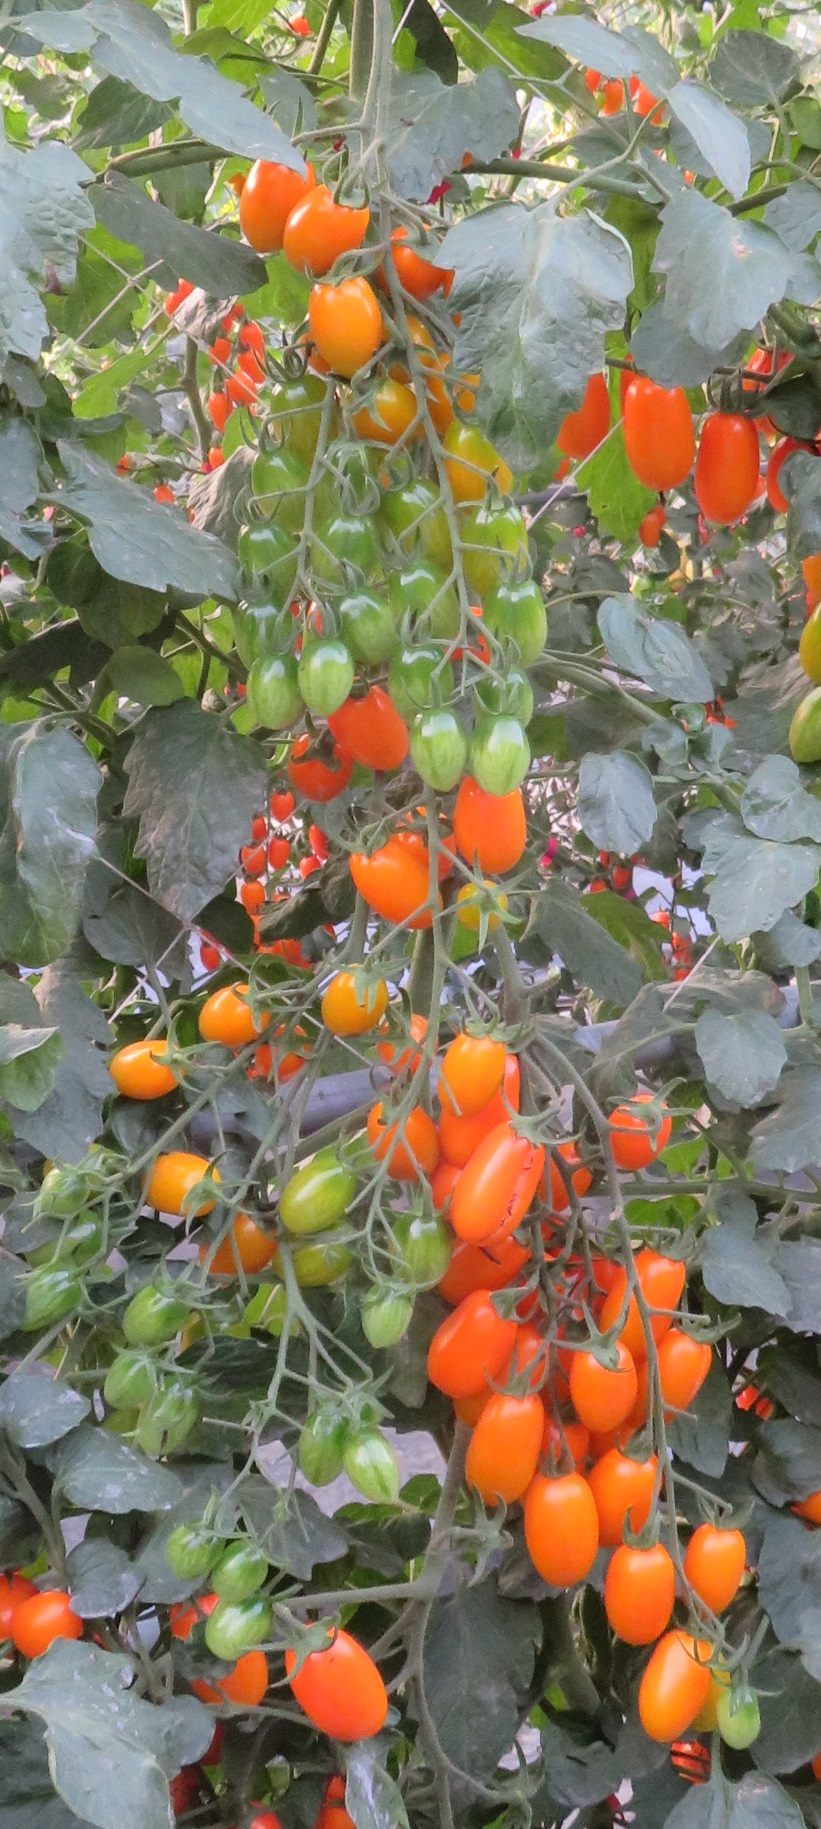green: (267, 1142, 363, 1240), (267, 376, 339, 453), (486, 591, 559, 667), (133, 1387, 210, 1457), (243, 650, 301, 742), (295, 640, 359, 720), (473, 712, 533, 796), (412, 706, 466, 797), (244, 450, 313, 521), (465, 510, 533, 580), (395, 1212, 454, 1292), (391, 650, 457, 719), (357, 1276, 412, 1359), (342, 1437, 406, 1506), (342, 597, 408, 661), (231, 530, 293, 597), (205, 1606, 273, 1667), (112, 1292, 199, 1338), (163, 1521, 229, 1582), (215, 1546, 269, 1603), (718, 1689, 767, 1752), (101, 1365, 159, 1418), (405, 499, 452, 559)
orange: (286, 1623, 395, 1749), (450, 1114, 557, 1238), (431, 1284, 525, 1395), (522, 1467, 601, 1591), (604, 1242, 685, 1361), (623, 374, 699, 499), (605, 1537, 682, 1651), (639, 1627, 714, 1744), (445, 789, 542, 878), (278, 192, 378, 278), (690, 408, 763, 523), (362, 835, 448, 927), (473, 1385, 540, 1504), (308, 280, 386, 376), (240, 153, 317, 244), (567, 1333, 636, 1435), (608, 1089, 682, 1180), (384, 218, 459, 304), (599, 1448, 669, 1537), (318, 959, 386, 1046), (10, 1593, 93, 1663), (685, 1521, 744, 1614), (661, 1329, 717, 1420), (106, 1038, 190, 1096), (195, 982, 271, 1046), (440, 1038, 503, 1114), (352, 701, 414, 775), (148, 1157, 225, 1214), (223, 371, 260, 407), (271, 789, 296, 827), (237, 345, 264, 377), (241, 845, 268, 875), (238, 876, 264, 908), (243, 322, 266, 351), (268, 838, 292, 866), (248, 818, 271, 845), (208, 441, 224, 471)
